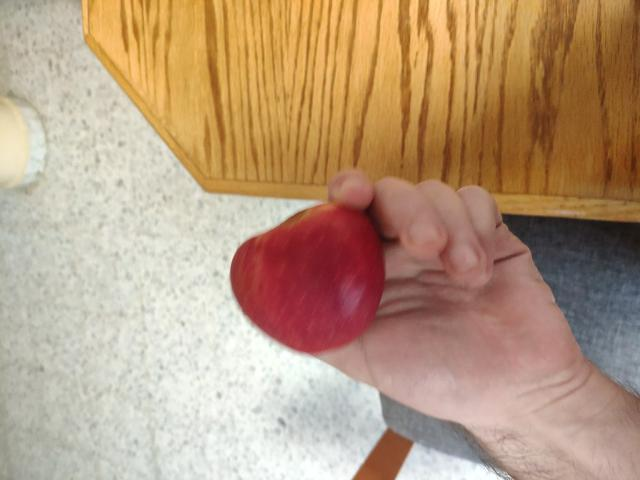apple: (223, 197, 394, 357)
